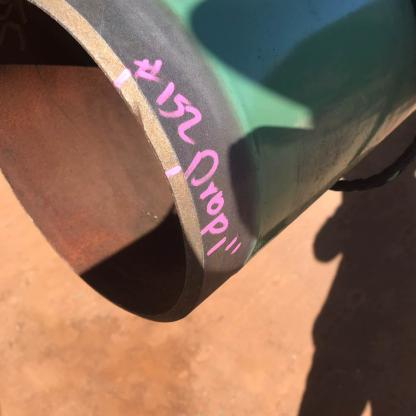Bevel: (124, 104, 157, 136)
